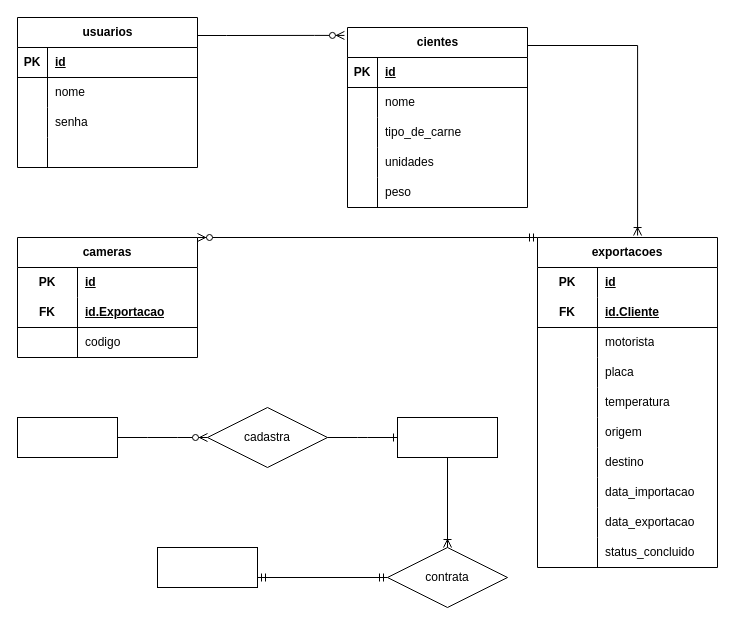
This 735x625 diagram has some shape labels left out. Each missing label, with the centre of its shape:
"Cliente" belongs at (x=447, y=437).
"exportacao" belongs at (x=207, y=567).
"usuario" belongs at (x=67, y=437).
